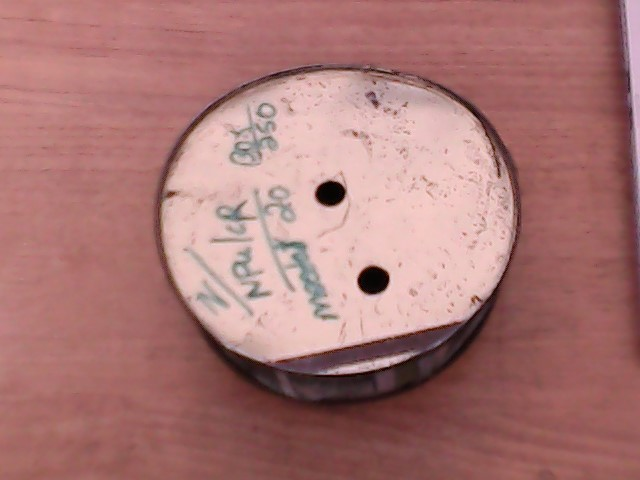Metal: (136, 53, 554, 407)
